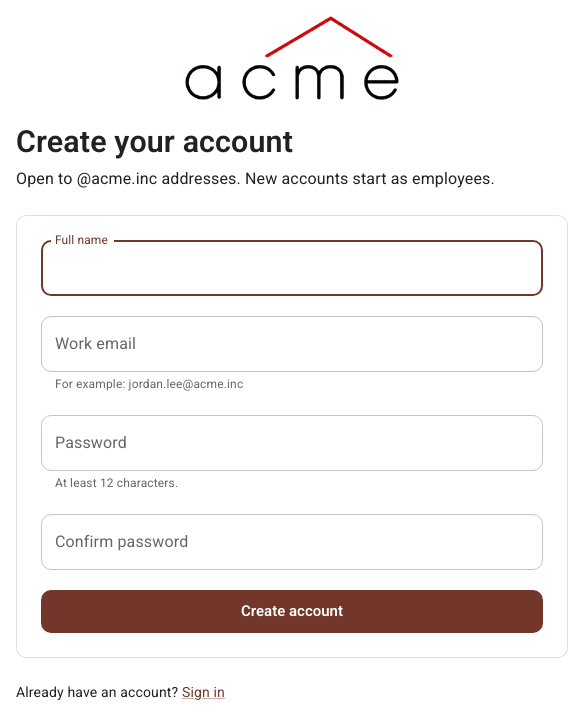
RegisterPage › refuses an address outside the ACME domain
Type "Jordan Lee" into the field labelled "Full name". click: (292, 268)
box: [41, 240, 543, 296]
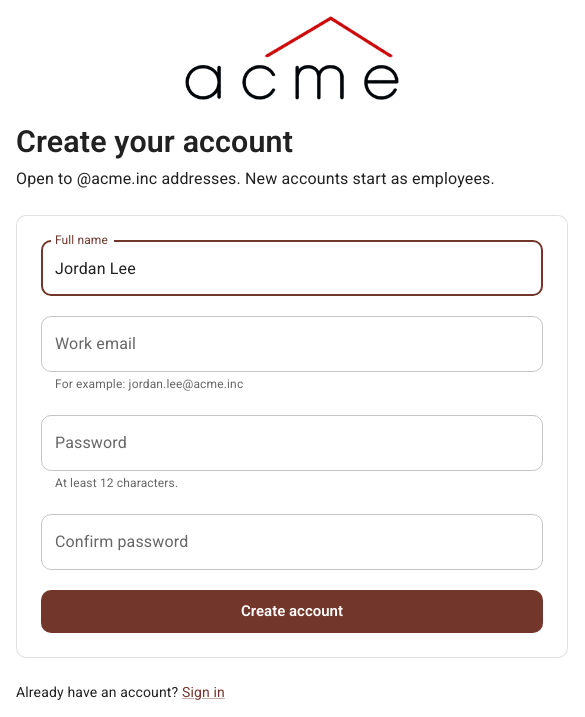
Type "jordan.lee@gmail.com" into the field labelled "Work email". click: (292, 344)
box: [41, 316, 543, 372]
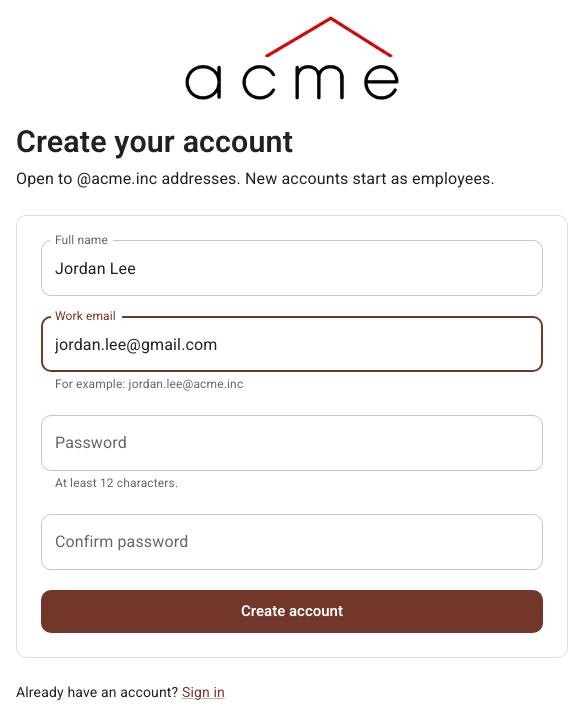
Type "correct horse battery" into the password field labelled "Password". click: (292, 443)
box: [41, 415, 543, 471]
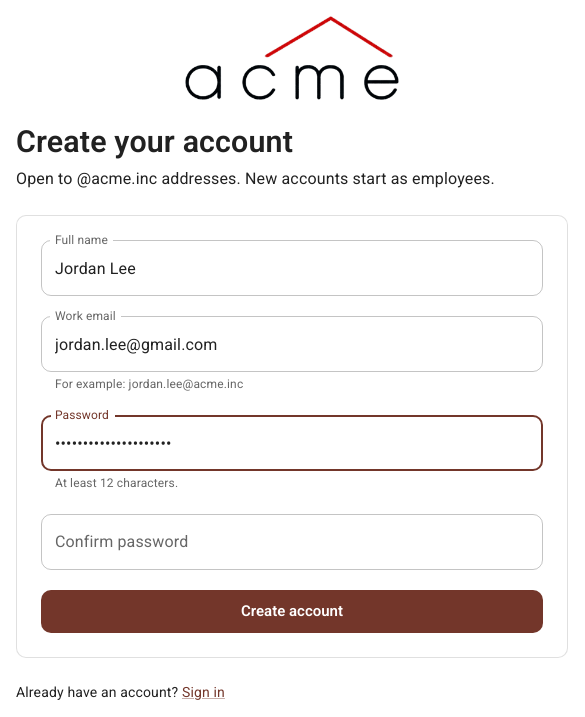
Type "correct horse battery" into the password field labelled "Confirm password". click: (292, 542)
box: [41, 514, 543, 570]
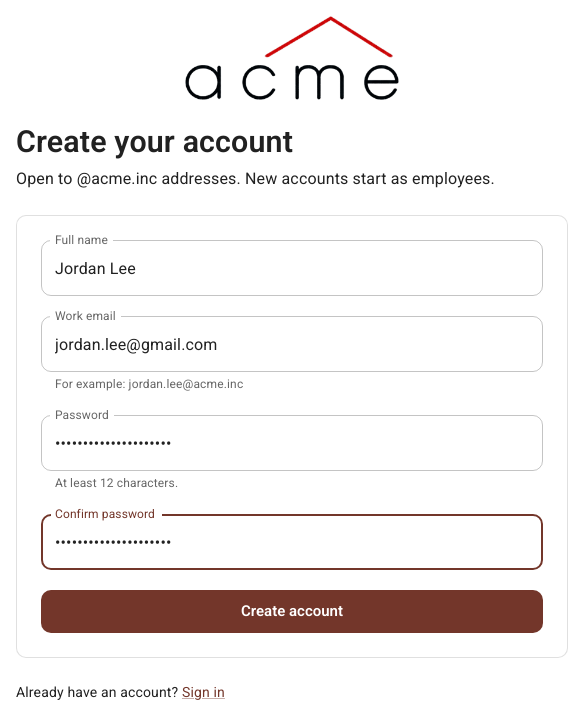
Click the button "Create account". click: (292, 611)
box: [41, 590, 543, 633]
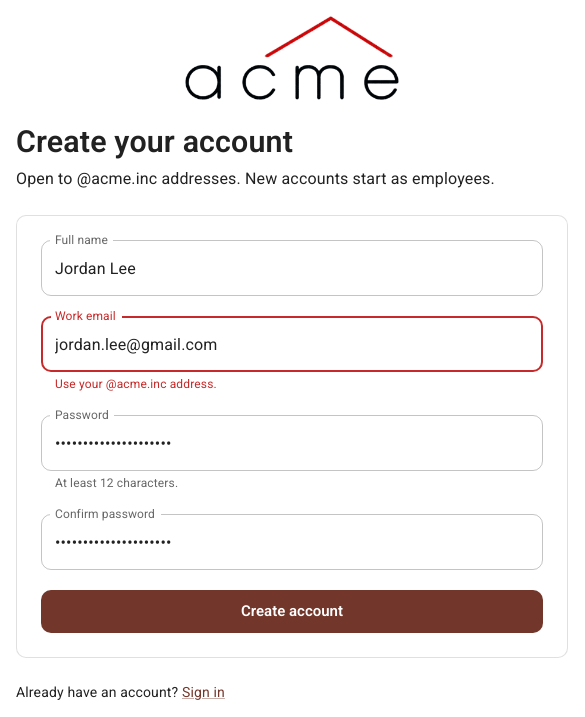
Result: the text "Use your @acme.inc address." is shown at [55, 378, 217, 392]
